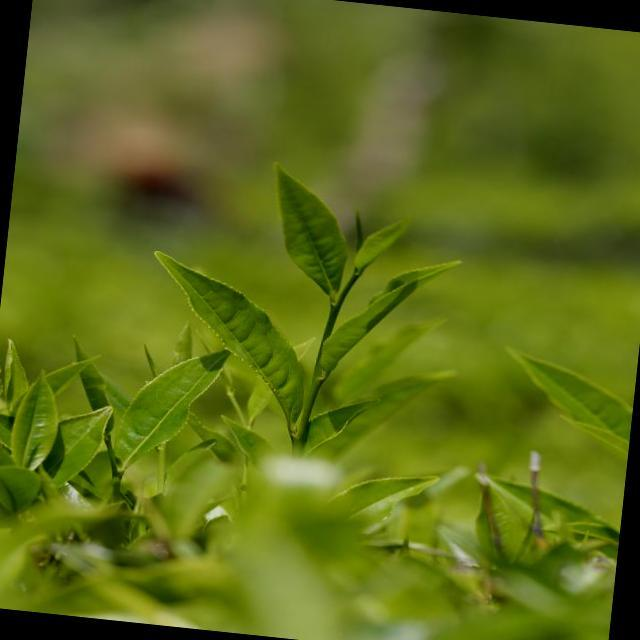Stem: (323, 312, 339, 336)
